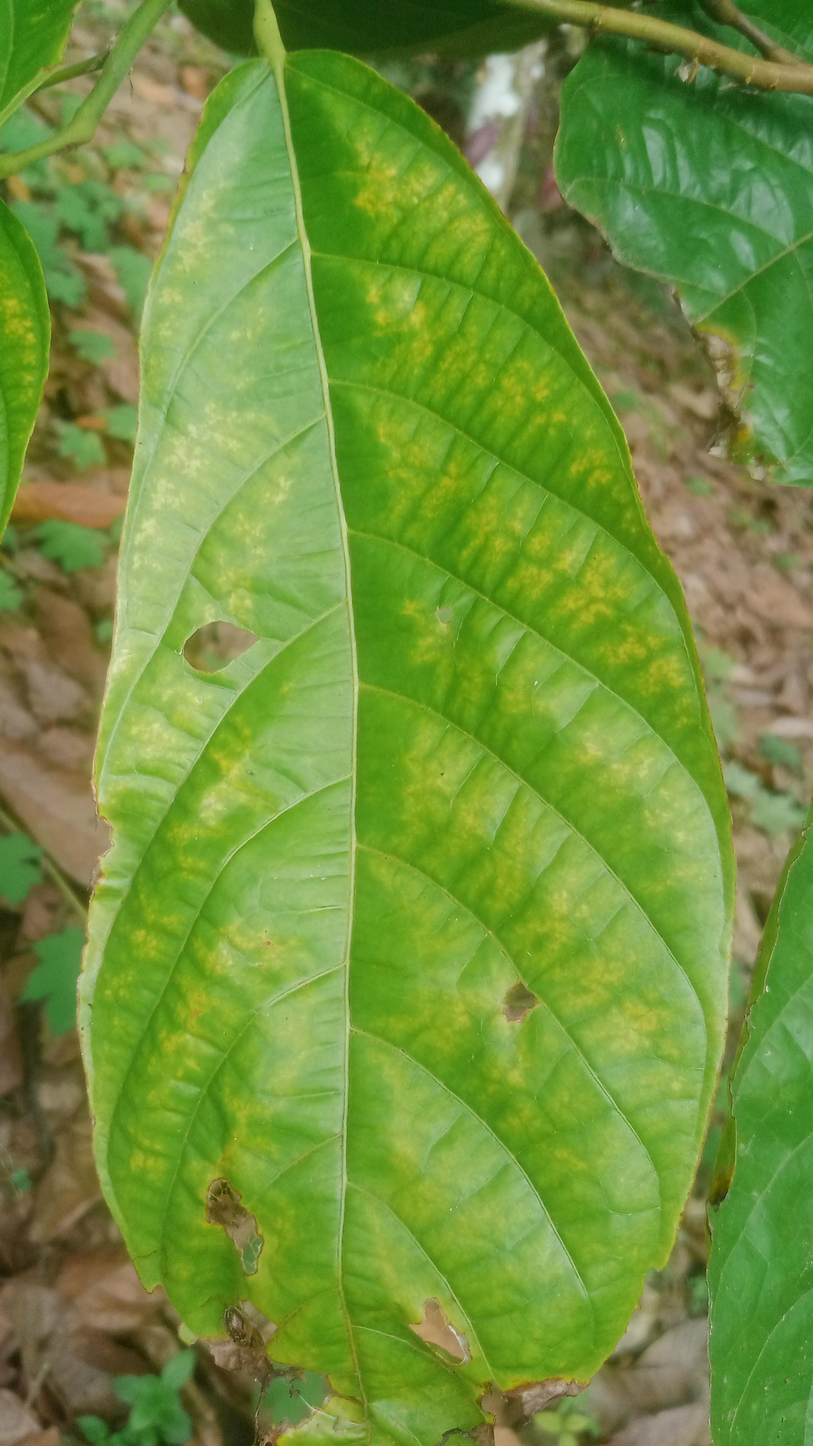deficiencia_potasio: (79, 41, 715, 1397)
